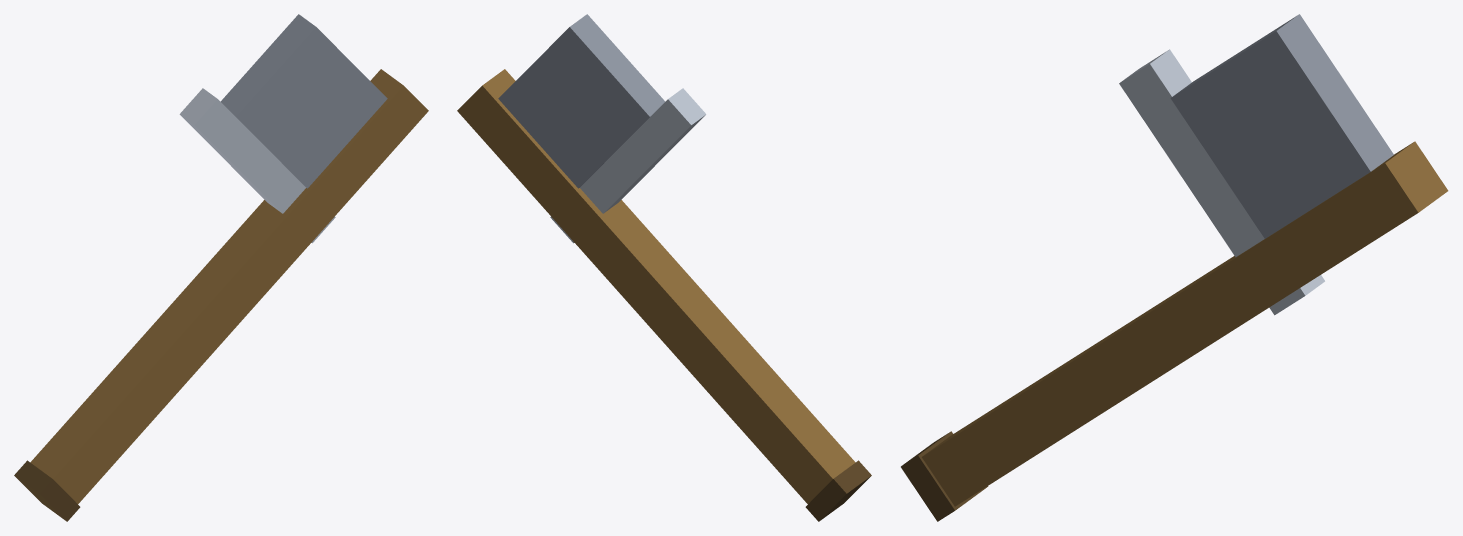
File: axe.glb
The picture shows the model from 3 angles, left to right: view 1: azimuth 30°, elevation 25°; view 2: azimuth 150°, elevation 25°; view 3: azimuth 330°, elevation 25°; orthographic projection. The views are drawn at different scales.
Parts seen in each view (by area): view 1: hilt.001; view 2: hilt.001; view 3: hilt.001.
Boxes of the visible parts, x1,y1,x2,y2 form: hilt.001: (14,14,428,521); hilt.001: (457,14,871,521); hilt.001: (901,14,1448,521).
Size of the model in its own units: 0.56 by 0.5894 by 0.0625.
